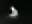person: (9, 6, 19, 20)
